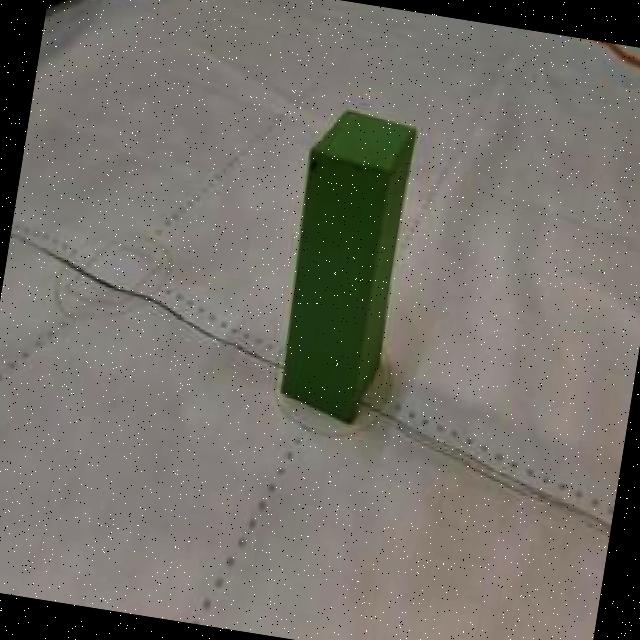greenbox: (265, 103, 419, 430)
